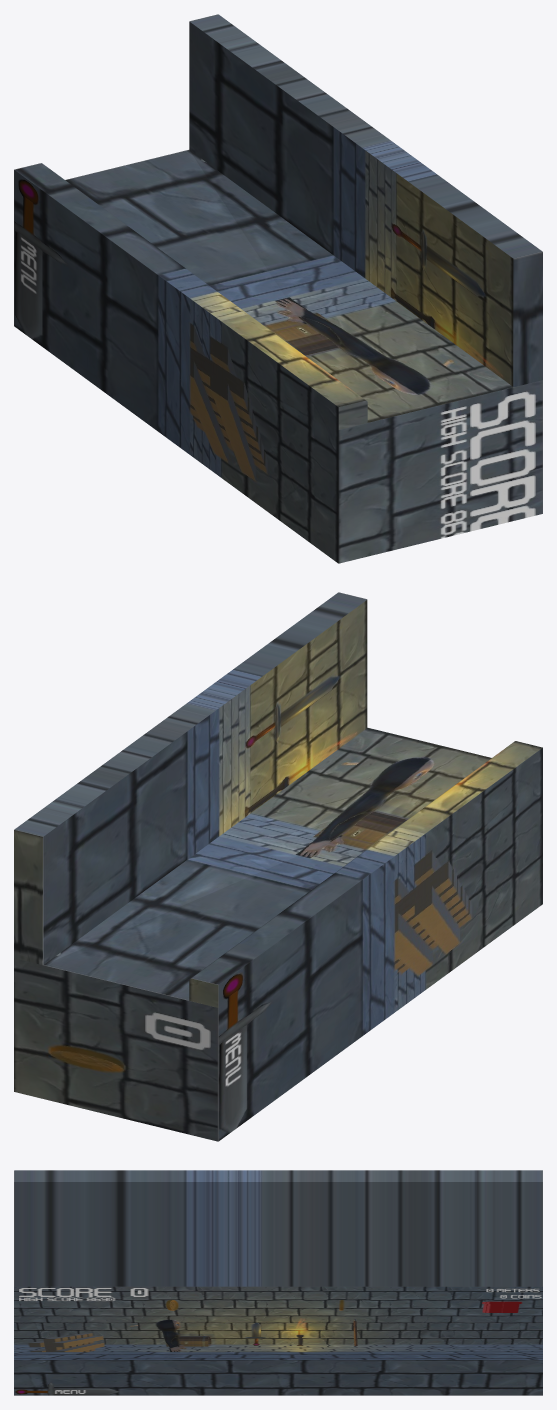
File: Platform.FBX
The picture shows the model from 3 angles, top to bottom: view 1: azimuth 30°, elevation 25°; view 2: azimuth 150°, elevation 25°; view 3: azimuth 270°, elevation 25°; orthographic projection. The views are drawn at different scales.
Parts seen in each view (by area): view 1: Box001; view 2: Box001; view 3: Box001.
Part boxes in pixels (<box>): Box001: <box>14,14,542,563</box>; Box001: <box>14,592,542,1141</box>; Box001: <box>14,1170,542,1395</box>.
Bounding box in the file's own units: 6.47 × 7.93 × 17.8.
